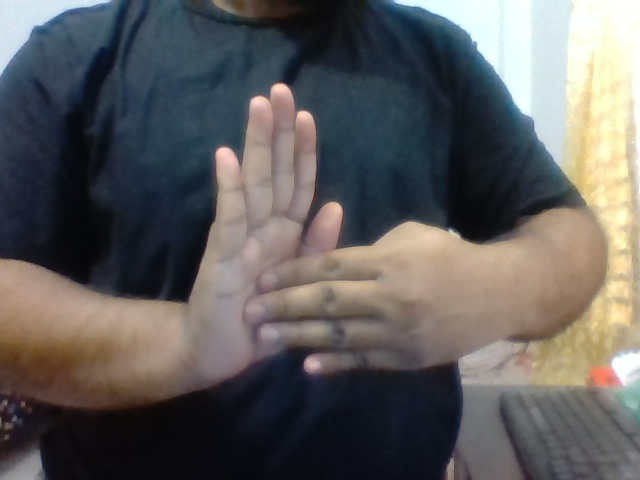H: (184, 72, 475, 390)
